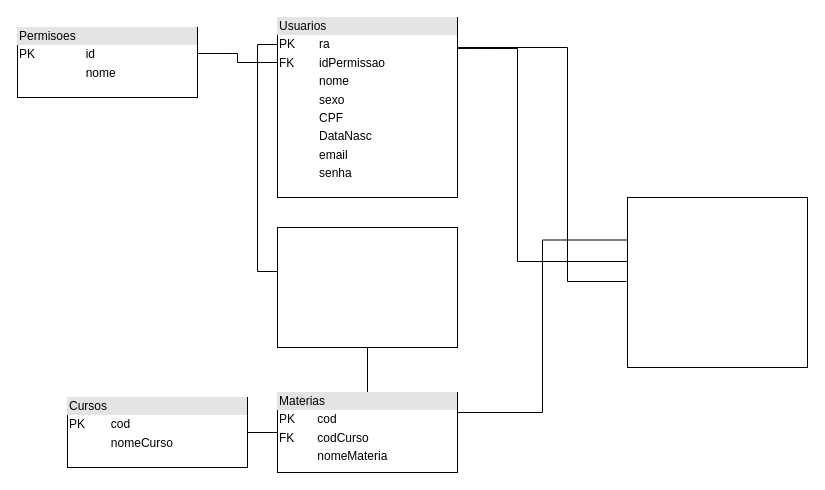
The diagram is 825 pixels wide and 490 high, and some of its shapes have lost their labels. The centre of each missing label's shape, as x and y in pixels:
"Matricula PK cod FK raAluno FK codMateria nota status" belongs at (x=367, y=287).
"Turmas PK cod FK Materia FK raAluno FK idProfessor nomeSala data hora status" belongs at (x=717, y=282).
